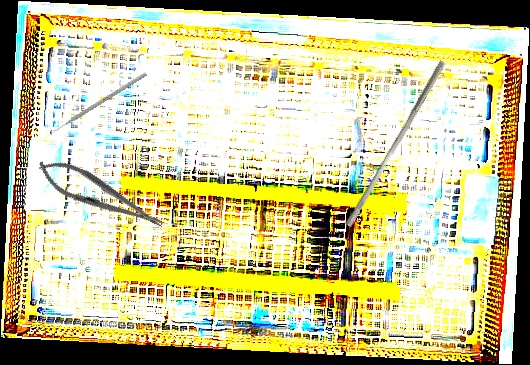Needle Holder: (30, 150, 171, 241)
Pusher: (344, 56, 447, 231), (44, 72, 148, 138)
